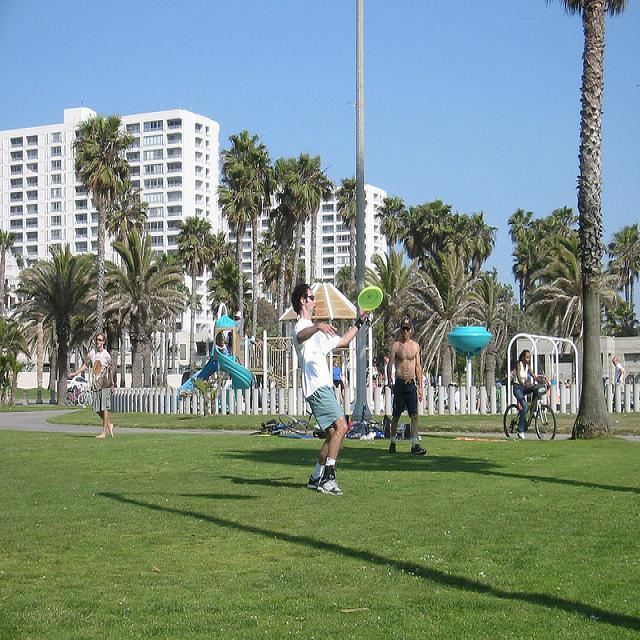Vehicle: (66, 376, 89, 390), (180, 371, 198, 388)
